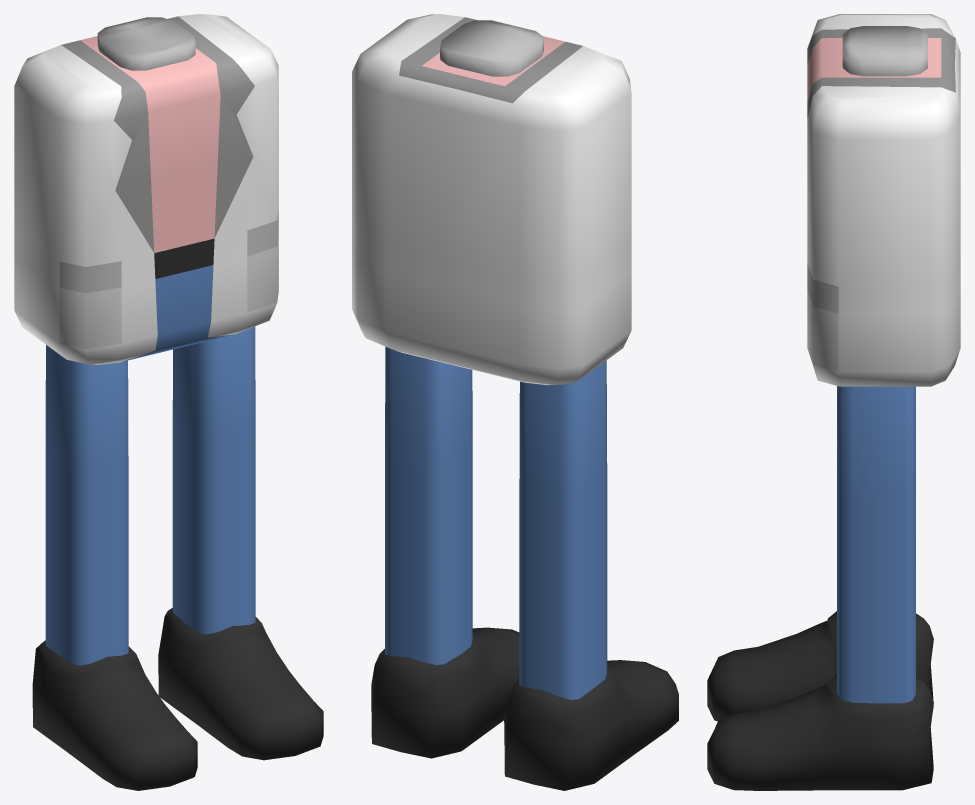
File: NPC_Body22.gltf
The picture shows the model from 3 angles, left to right: view 1: azimuth 30°, elevation 25°; view 2: azimuth 150°, elevation 25°; view 3: azimuth 270°, elevation 25°; orthographic projection. The views are drawn at different scales.
Parts seen in each view (by area): view 1: NPC_Body.022; view 2: NPC_Body.022; view 3: NPC_Body.022.
Boxes of the visible parts, box(x1,y1,x2,y2) form: NPC_Body.022: box(14, 14, 323, 790); NPC_Body.022: box(352, 14, 678, 790); NPC_Body.022: box(707, 14, 960, 790).
Size of the model in its own units: 0.5348 by 1.57 by 0.518.
1 material, 1 textured.
